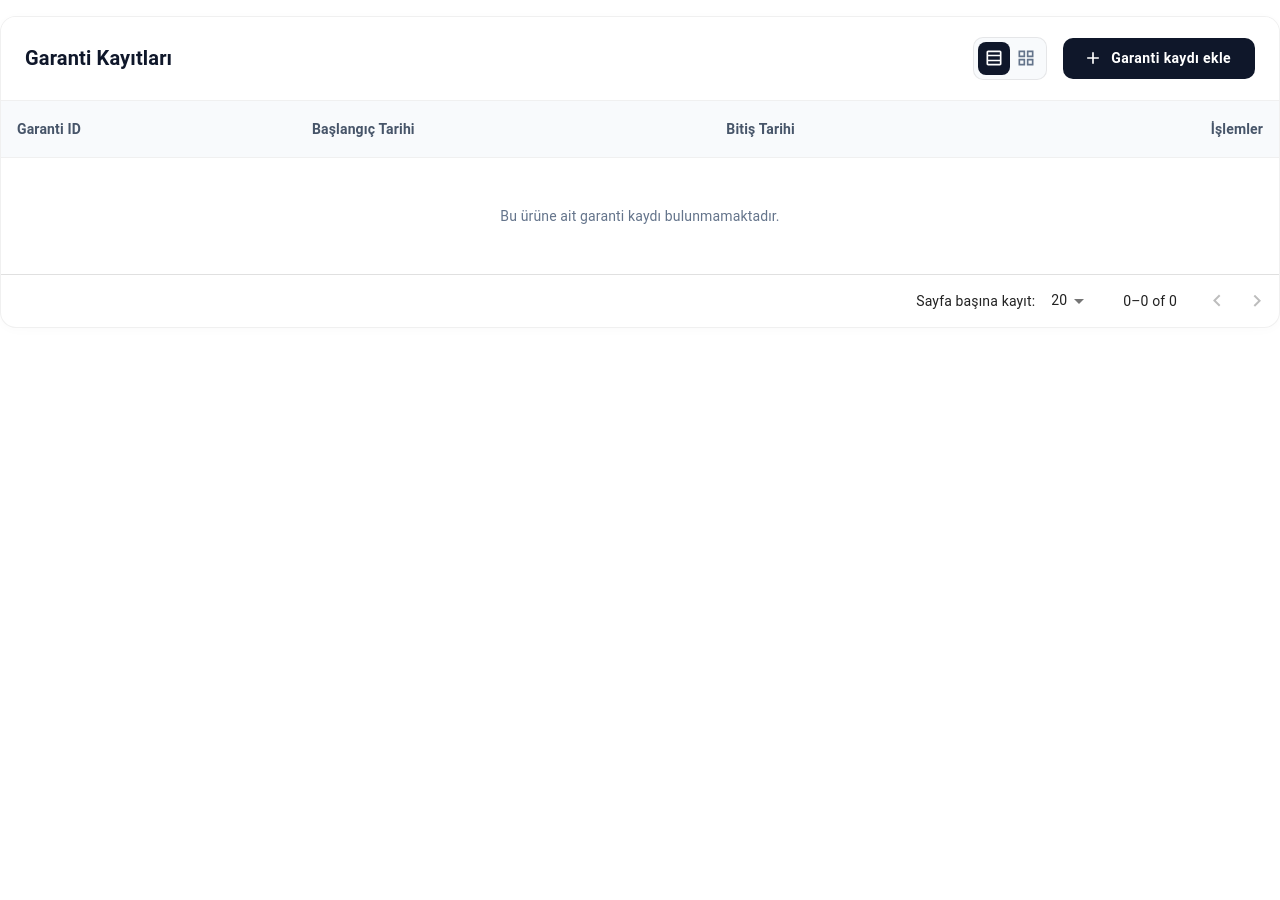
WarrantyList Bileşeni › Başlangıç ve bitiş tarihleri boşsa kayıt yapılmamalı ve hata gösterilmelidir
Click the button "Garanti kaydı ekle" at (1159, 58), box [1063,38,1255,79]
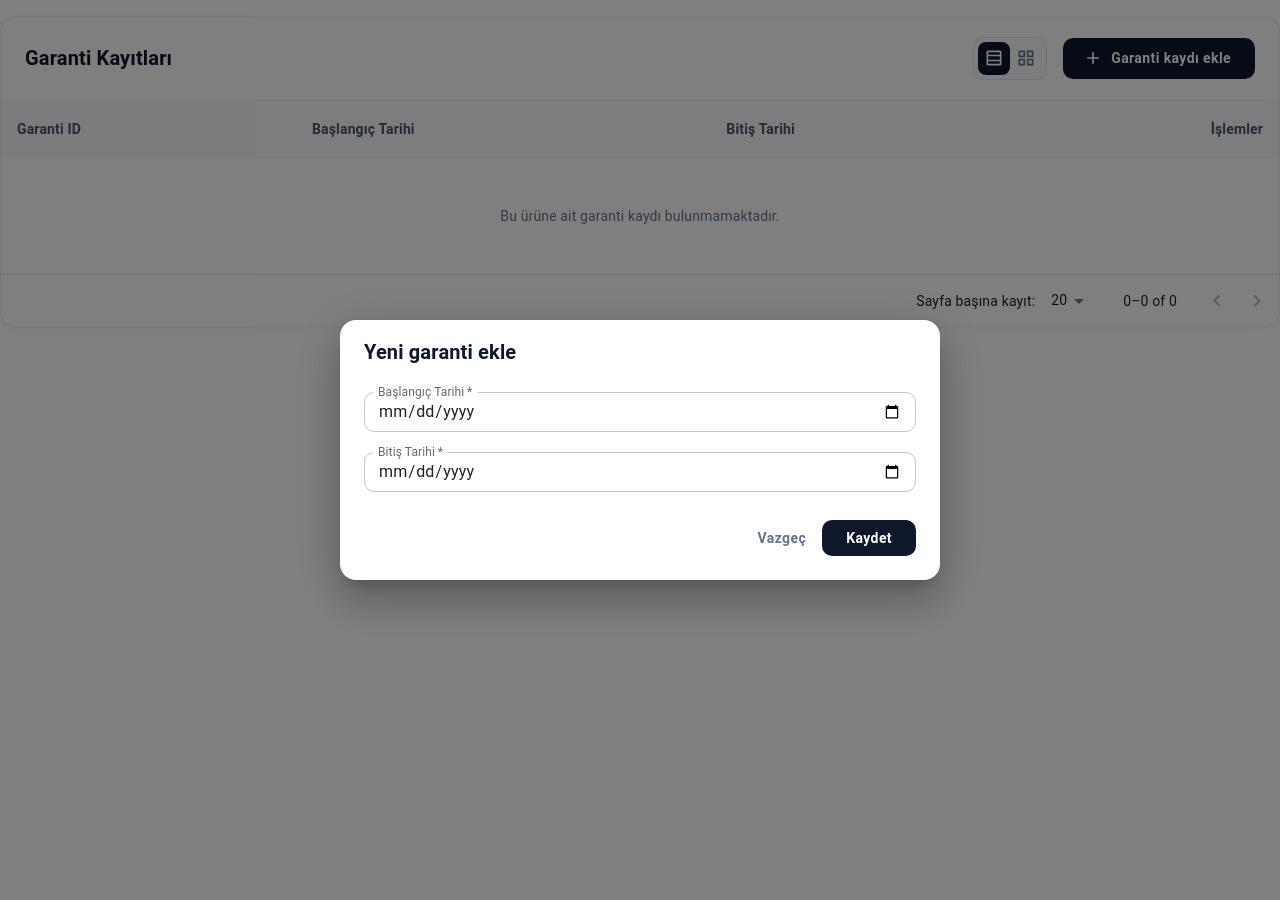
Click the button "Kaydet" at (869, 538), box [822,520,916,556]
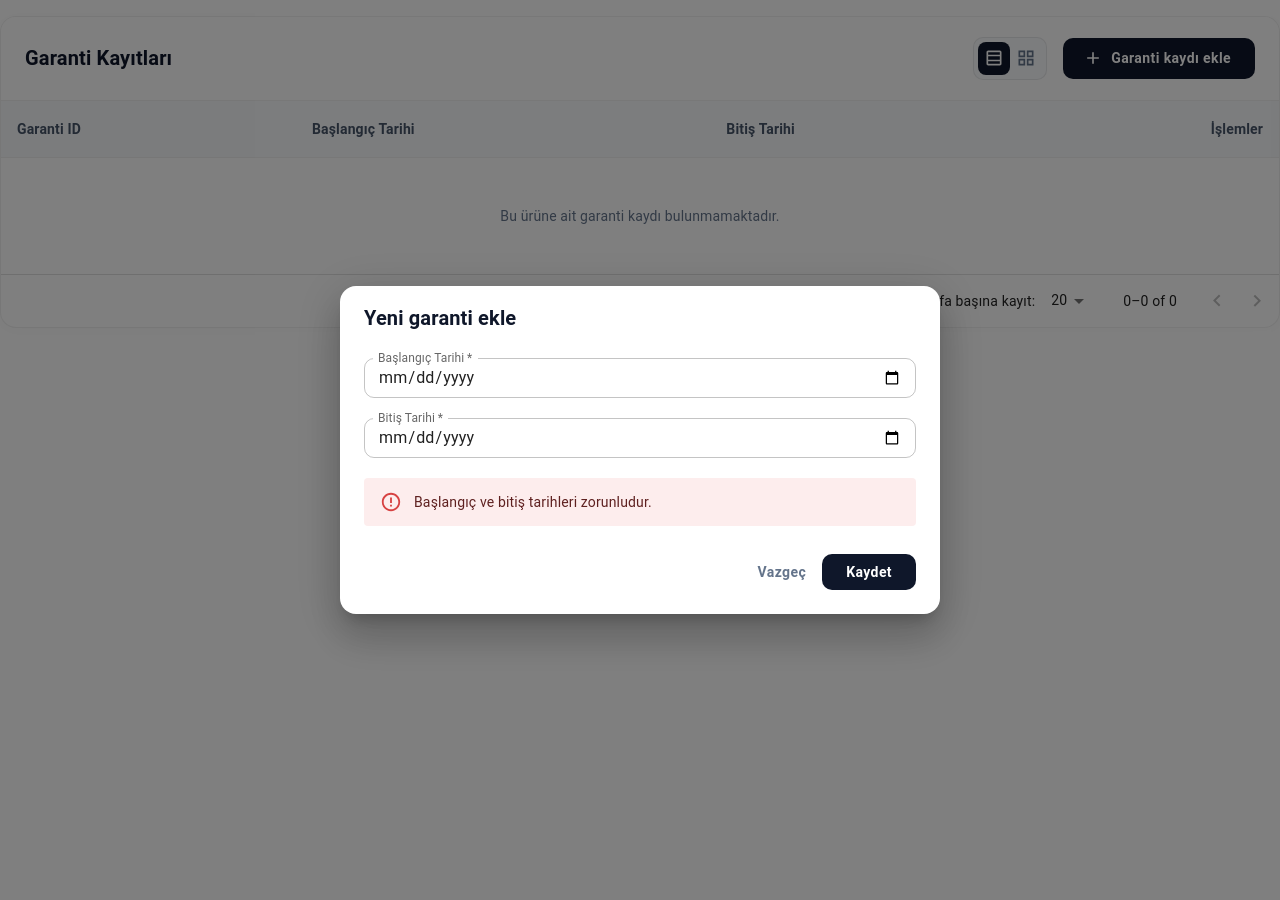
Now the text "Başlangıç ve bitiş tarihleri zorunludur." is shown, box [414,494,652,510]
